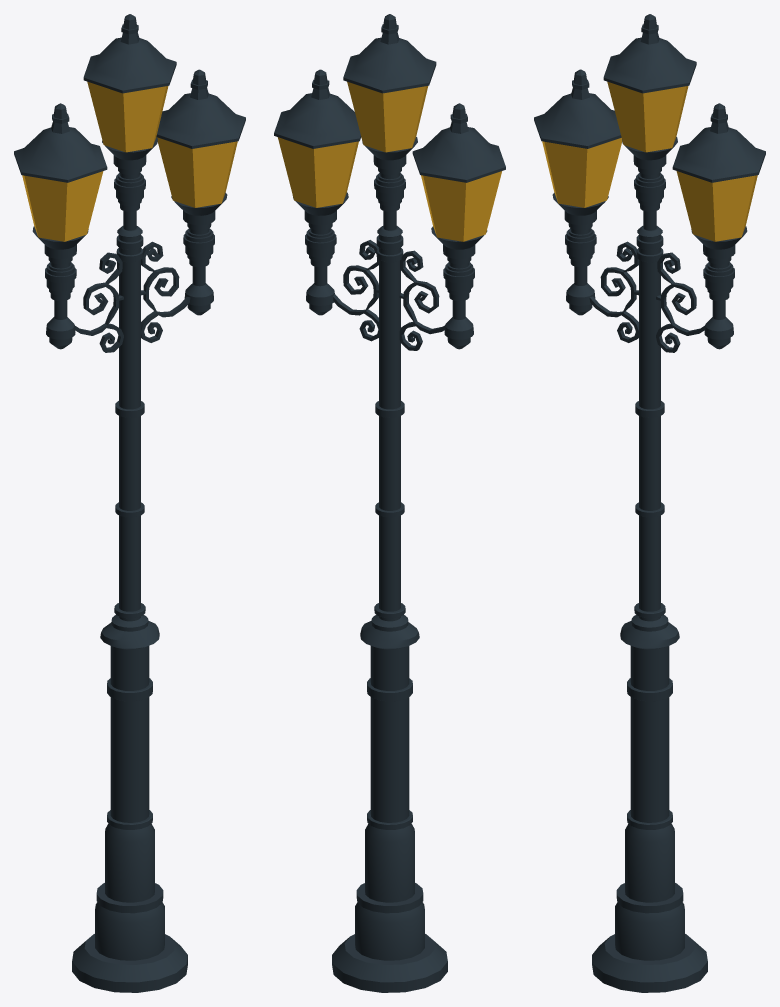
File: StreetLamps.fbx_Lamp_1.fbx
3 views of the same model, side by side, from view 1: azimuth 30°, elevation 25°; view 2: azimuth 150°, elevation 25°; view 3: azimuth 330°, elevation 25° (orthographic).
Visible parts, largest first — view 1: Sreetlamp_1; view 2: Sreetlamp_1; view 3: Sreetlamp_1.
Boxes of the visible parts, x1,y1,x2,y2 form: Sreetlamp_1: [14, 14, 245, 992]; Sreetlamp_1: [274, 14, 505, 992]; Sreetlamp_1: [534, 14, 765, 992].
Bounding box in the file's own units: 102 × 413 × 45.78.
